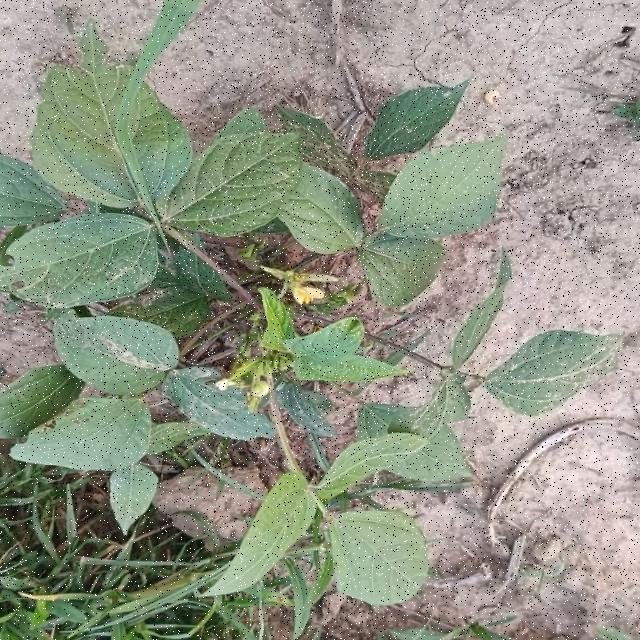plant: (0, 0, 622, 639)
